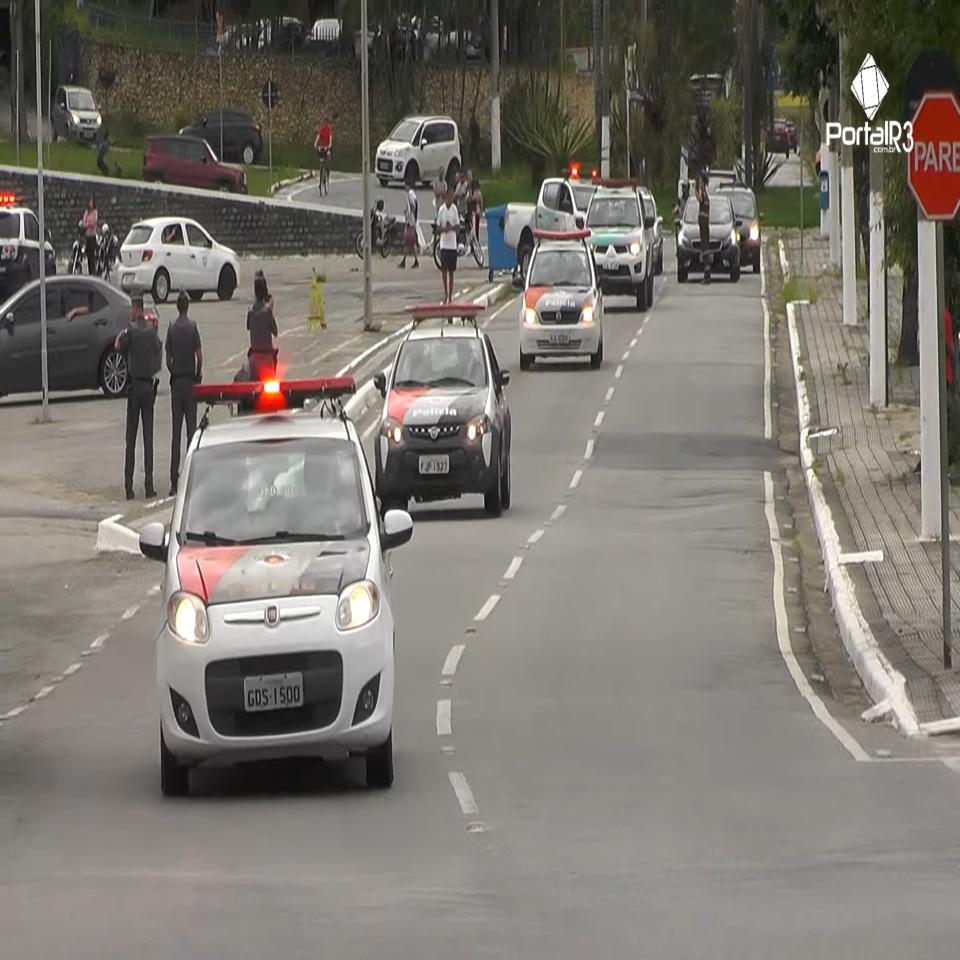viatura: (139, 375, 418, 799), (372, 304, 517, 516), (511, 224, 606, 370)
